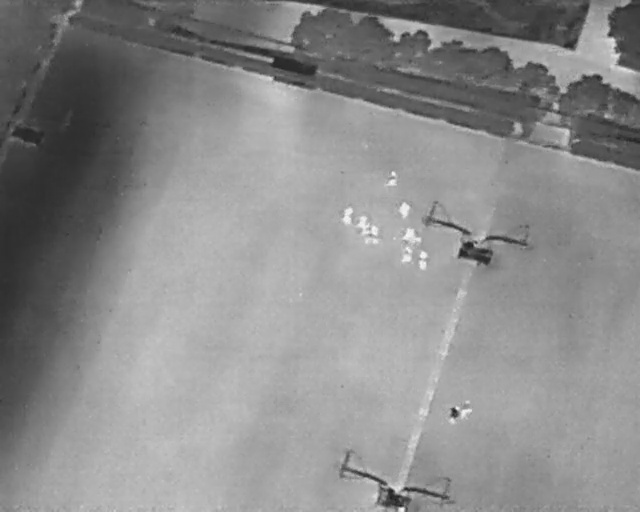Person: (382, 170, 399, 189), (402, 228, 422, 244), (367, 225, 381, 247), (416, 250, 429, 272), (340, 204, 353, 224), (399, 201, 411, 220), (355, 213, 369, 229), (460, 401, 472, 419), (448, 406, 460, 424), (401, 246, 412, 264), (361, 228, 372, 245)
